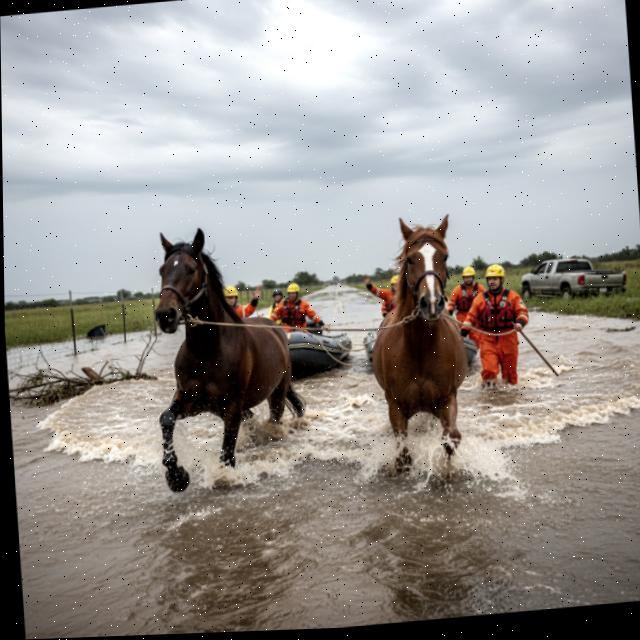horse: (136, 214, 317, 498), (354, 197, 482, 484)
rescuer: (456, 248, 535, 394), (270, 271, 323, 342), (444, 254, 486, 339), (357, 258, 401, 320), (220, 274, 267, 324), (264, 277, 288, 325)
